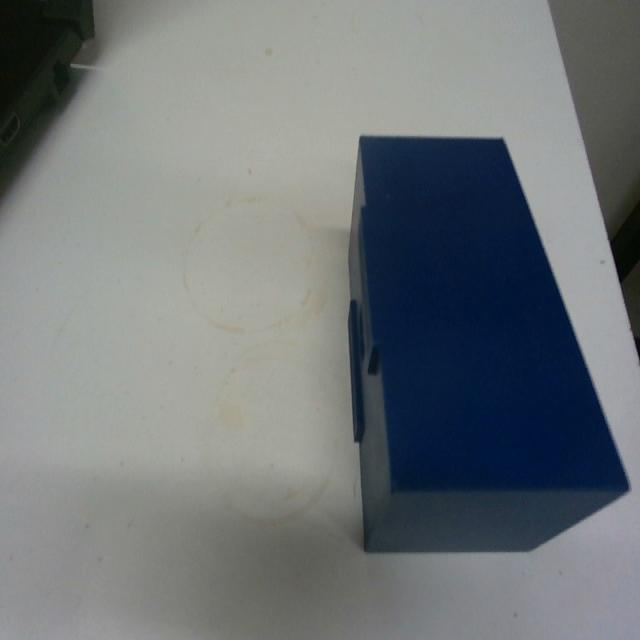Blue Cuboid: (344, 129, 631, 555)
